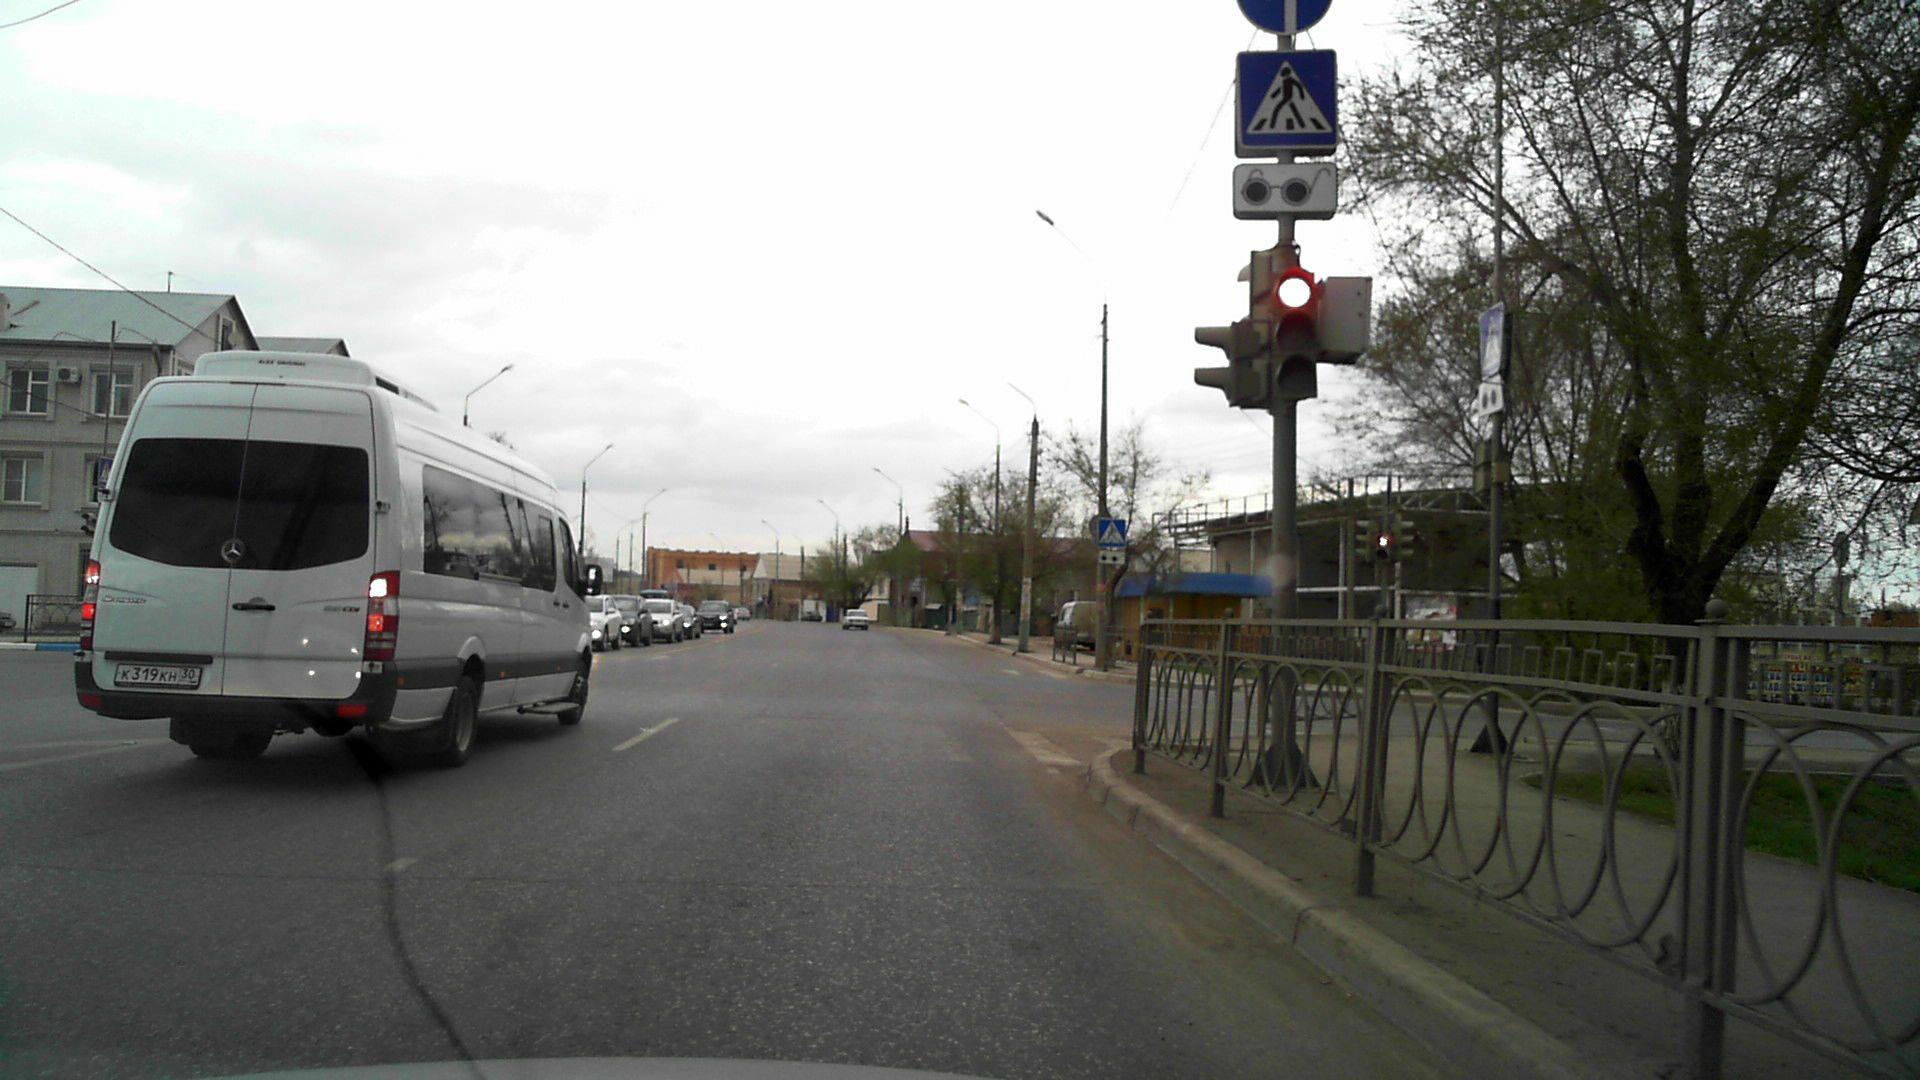4_1_5: (1234, 0, 1336, 40)
5_19_1: (1236, 55, 1337, 149), (1480, 307, 1509, 373), (1096, 520, 1125, 547)
5_19_2: (98, 456, 113, 487)
8_15: (1234, 164, 1340, 218), (1476, 380, 1507, 411), (1096, 550, 1126, 564)
